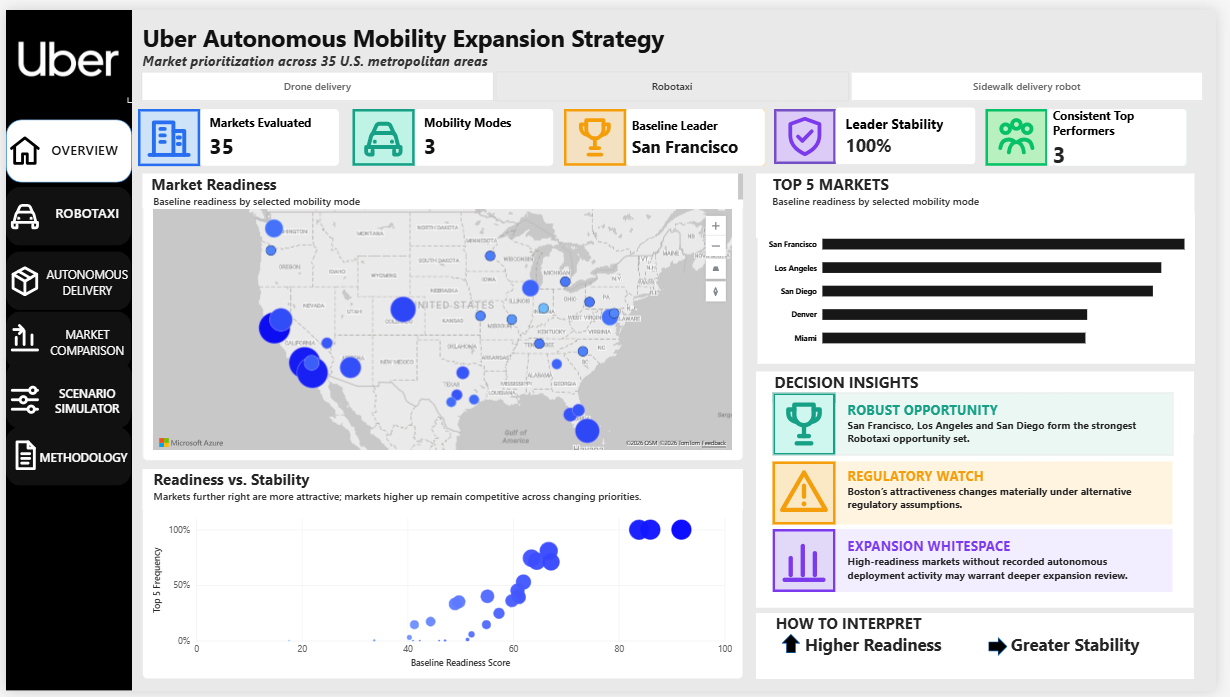

The page's visual inventory and layout, read from the dashboard file:
{"tool":"powerbi","page":{"name":"Overview","canvas":[1920,1080],"ordinal":0},"visuals":[{"type":"shape","box":[0,0,200,1080],"z":0},{"type":"image","box":[1218.7,156.1,98.2,87.3],"z":0,"group":"g18"},{"type":"image","box":[1554.6,156.6,98.4,90],"z":0,"group":"g19"},{"type":"shape","box":[0,172.9,200,100],"z":0,"group":"g2"},{"type":"group","id":"g1","title":"Group 8","box":[1189.4,258.5,698.9,281.6],"z":0,"group":"g22"},{"type":"textbox","box":[1189.4,258.5,697.5,95],"z":0,"group":"g1"},{"type":"shape","box":[0,280.6,198.7,92.8],"z":0,"group":"g5"},{"type":"shape","box":[0,382.5,198.7,92.8],"z":0,"group":"g4"},{"type":"shape","box":[0,477.5,198.7,92.8],"z":0,"group":"g6"},{"type":"shape","box":[0,572.5,198.7,92.8],"z":0,"group":"g7"},{"type":"shape","box":[0,662.5,198.7,92.8],"z":0,"group":"g8"},{"type":"scatterChart","fields":{"Category":["PBI_DIM_MARKET.MARKET_SHORT_NAME"],"Size":["_Measures.Top 10 Frequency"],"X":["_Measures.Selected Baseline Score"],"Y":["_Measures.Top 10 Frequency"]},"box":[215.6,783.3,953.2,278.8],"z":0,"group":"g13"},{"type":"textbox","box":[216,0,1704,96],"z":1000},{"type":"cardVisual","fields":{"Data":["_Measures.Robust Leader Top 5 Frequency"]},"box":[1316.9,154.3,222.4,90],"z":1000,"group":"g18"},{"type":"cardVisual","fields":{"Data":["_Measures.Consistent Top Performers"]},"box":[1653.3,156.6,221.3,90],"z":1000,"group":"g19"},{"type":"image","box":[0,187.3,60,70],"z":1000,"group":"g2"},{"type":"shape","box":[1194.7,316.8,693.5,223.4],"z":1000,"group":"g1"},{"type":"clusteredBarChart","fields":{"Category":["PBI_DIM_MARKET.MARKET_SHORT_NAME"],"Y":["_Measures.Selected Baseline Score"]},"box":[1190.8,321,695,220],"z":1000,"group":"g22"},{"type":"shape","box":[0,556,200,100],"z":1000,"group":"g3"},{"type":"textbox","box":[215.6,728.5,953.2,64.3],"z":1000,"group":"g13"},{"type":"textbox","box":[216,48,744,72],"z":2000},{"type":"image","box":[0,289.1,60,70],"z":3000,"group":"g5"},{"type":"actionButton","box":[528.9,447.9,200,100],"z":3000},{"type":"slicer","fields":{"Values":["PBI_DIM_MODE.MODE_NAME"]},"box":[192.9,95.3,1727.1,52.2],"z":4000},{"type":"image","box":[0,0,200,165.6],"z":5000},{"type":"cardVisual","fields":{"Data":["_Measures.Markets Evaluated"]},"box":[307.2,156.6,221.6,90.6],"z":5000,"group":"g20"},{"type":"cardVisual","fields":{"Data":["_Measures.Mobility Modes"]},"box":[647.6,156.6,221.6,90],"z":6000,"group":"g16"},{"type":"actionButton","box":[0,165.6,200,100],"z":6000},{"type":"cardVisual","fields":{"Data":["_Measures.Robust Leader"]},"box":[983.8,156.6,221.3,90],"z":7000,"group":"g21"},{"type":"group","id":"g2","title":"Group 1","box":[0,172.9,201.3,99.2],"z":7000},{"type":"group","id":"g3","title":"Group 2","box":[0,556,200,100],"z":8000},{"type":"azureMap","fields":{"Size":["_Measures.Top 5 Frequency"],"X":["PBI_DIM_MARKET.LONGITUDE"],"Y":["PBI_DIM_MARKET.LATITUDE"]},"box":[215.6,299.6,953.2,415.3],"z":9000,"group":"g14"},{"type":"group","id":"g4","title":"Group 3","box":[0,382.5,197.5,92.5],"z":9000},{"type":"textbox","box":[215.6,258.7,953.2,54.5],"z":10000,"group":"g14"},{"type":"group","id":"g5","title":"Group 4","box":[0,280.6,198.4,93.5],"z":10000},{"type":"group","id":"g6","title":"Group 5","box":[0,477.5,197.5,92.5],"z":11000},{"type":"group","id":"g7","title":"Group 6","box":[0,572.5,200,92.5],"z":12000},{"type":"group","id":"g8","title":"Group 7","box":[0,662.5,202.5,92.8],"z":13000},{"type":"actionButton","box":[0,270,198.4,93.5],"z":14000},{"type":"actionButton","box":[0,380,198.4,93.5],"z":15000},{"type":"actionButton","box":[0,475,198.4,102],"z":16000},{"type":"actionButton","box":[0,570,199.7,95.3],"z":17000},{"type":"textbox","box":[59.4,207.3,131.2,37.5],"z":18000,"group":"g2"},{"type":"actionButton","box":[0,667.5,197.4,90.8],"z":18000},{"type":"group","id":"g9","title":"Group 9","box":[1189.4,258.5,698.9,282.5],"z":19000},{"type":"textbox","box":[59.5,306.1,138.9,39.7],"z":20000,"group":"g5"},{"type":"textbox","box":[59.5,405.2,138.9,51],"z":20000,"group":"g4"},{"type":"textbox","box":[59.5,500.2,138.9,51],"z":20000,"group":"g6"},{"type":"textbox","box":[1191.5,549.2,695,100],"z":20000},{"type":"textbox","box":[59.5,595.2,138.9,51],"z":20000,"group":"g7"},{"type":"textbox","box":[42.5,698.7,160,27.5],"z":20000,"group":"g8"},{"type":"image","box":[0,393.8,60,70],"z":21000,"group":"g4"},{"type":"shape","box":[1191.5,581,694.5,325],"z":21000},{"type":"image","box":[0,486,60,70],"z":21005,"group":"g6"},{"type":"group","id":"g10","title":"Group 10","box":[1218.7,585.5,635.5,99.9],"z":22000},{"type":"group","id":"g11","title":"Group 11","box":[1218.7,689.9,635.5,102.1],"z":23000},{"type":"image","box":[1.2,584,60,70],"z":23001,"group":"g7"},{"type":"image","box":[0,671,60,70],"z":23001,"group":"g8"},{"type":"group","id":"g12","title":"Group 12","box":[1218.7,796.6,635.5,99.9],"z":24000},{"type":"group","id":"g13","title":"Group 13","box":[215.6,728.5,953.2,333.6],"z":25000},{"type":"group","id":"g14","title":"Group 14","box":[215.6,258.7,953.2,456.2],"z":26000},{"type":"group","id":"g15","title":"Group 15","box":[208.8,156.6,320,90.6],"z":27000},{"type":"group","id":"g16","title":"Group 16","box":[549.2,156.6,320,90.8],"z":28000},{"type":"group","id":"g17","title":"Group 17","box":[885.1,156.6,320,90.8],"z":29000},{"type":"group","id":"g18","title":"Group 18","box":[1218.7,154.3,320,90.8],"z":30000},{"type":"shape","box":[1218.7,585.5,635,100.1],"z":30000,"group":"g10"},{"type":"group","id":"g19","title":"Group 19","box":[1554.6,156.6,320,90.8],"z":31000},{"type":"shape","box":[1218.7,689.9,635,100.1],"z":31000,"group":"g11"},{"type":"image","box":[208.8,156.6,98.5,90.6],"z":31002,"group":"g20"},{"type":"image","box":[549.2,156.6,98.5,90],"z":31003,"group":"g16"},{"type":"image","box":[885.1,156.6,98.3,90],"z":31004,"group":"g21"},{"type":"group","id":"g20","title":"Group 21","box":[208.8,156.6,320,90.6],"z":31015,"group":"g15"},{"type":"group","id":"g21","title":"Group 20","box":[885.1,156.6,320,90],"z":31015,"group":"g17"},{"type":"shape","box":[1218.7,796.6,635,100.1],"z":32000,"group":"g12"},{"type":"shape","box":[1189.2,912.3,694.5,150],"z":32000},{"type":"image","box":[1218.7,585.5,100,100.1],"z":33000,"group":"g10"},{"type":"textbox","box":[1205,925,510,137.5],"z":33000},{"type":"image","box":[1218.7,689.9,100,100.1],"z":34000,"group":"g11"},{"type":"shape","box":[1207.5,957.5,45,35],"z":34000},{"type":"image","box":[1218.7,796.6,100,100.1],"z":35000,"group":"g12"},{"type":"shape","box":[1212.5,992.5,35,45],"z":35000},{"type":"group","id":"g22","title":"Group 22","box":[1189.4,258.5,698.9,282.5],"z":35001,"group":"g9"},{"type":"actionButton","box":[0,571.4,200,100],"z":35001},{"type":"textbox","box":[1336.7,596.9,481.1,88.6],"z":36000,"group":"g10"},{"type":"textbox","box":[1336.7,696.7,481.1,88.6],"z":37000,"group":"g11"},{"type":"textbox","box":[1336.7,808,481.1,88.6],"z":38000,"group":"g12"}]}

Visuals, with their boxes on the page's 1920x1080 design canvas (x1, y1, x2, y2). These are canvas units, not pixel positions in the 1230x697 screenshot, which may show the page scaled, cropped or inside an application window:
shape: [0,0,200,1080]
image: [1219,156,1317,243]
image: [1555,157,1653,247]
shape: [0,173,200,273]
"Group 8" group: [1189,258,1888,540]
textbox: [1189,258,1887,354]
shape: [0,281,199,373]
shape: [0,382,199,475]
shape: [0,478,199,570]
shape: [0,572,199,665]
shape: [0,662,199,755]
scatterChart - PBI_DIM_MARKET.MARKET_SHORT_NAME x _Measures.Top 10 Frequency: [216,783,1169,1062]
textbox: [216,0,1920,96]
cardVisual - _Measures.Robust Leader Top 5 Frequency: [1317,154,1539,244]
cardVisual - _Measures.Consistent Top Performers: [1653,157,1875,247]
image: [0,187,60,257]
shape: [1195,317,1888,540]
clusteredBarChart - PBI_DIM_MARKET.MARKET_SHORT_NAME x _Measures.Selected Baseline Score: [1191,321,1886,541]
shape: [0,556,200,656]
textbox: [216,728,1169,793]
textbox: [216,48,960,120]
image: [0,289,60,359]
actionButton: [529,448,729,548]
slicer - PBI_DIM_MODE.MODE_NAME: [193,95,1920,148]
image: [0,0,200,166]
cardVisual - _Measures.Markets Evaluated: [307,157,529,247]
cardVisual - _Measures.Mobility Modes: [648,157,869,247]
actionButton: [0,166,200,266]
cardVisual - _Measures.Robust Leader: [984,157,1205,247]
"Group 1" group: [0,173,201,272]
"Group 2" group: [0,556,200,656]
azureMap - _Measures.Top 5 Frequency x PBI_DIM_MARKET.LONGITUDE: [216,300,1169,715]
"Group 3" group: [0,382,198,475]
textbox: [216,259,1169,313]
"Group 4" group: [0,281,198,374]
"Group 5" group: [0,478,198,570]
"Group 6" group: [0,572,200,665]
"Group 7" group: [0,662,202,755]
actionButton: [0,270,198,364]
actionButton: [0,380,198,474]
actionButton: [0,475,198,577]
actionButton: [0,570,200,665]
textbox: [59,207,191,245]
actionButton: [0,668,197,758]
"Group 9" group: [1189,258,1888,541]
textbox: [60,306,198,346]
textbox: [60,405,198,456]
textbox: [60,500,198,551]
textbox: [1192,549,1886,649]
textbox: [60,595,198,646]
textbox: [42,699,202,726]
image: [0,394,60,464]
shape: [1192,581,1886,906]
image: [0,486,60,556]
"Group 10" group: [1219,586,1854,685]
"Group 11" group: [1219,690,1854,792]
image: [1,584,61,654]
image: [0,671,60,741]
"Group 12" group: [1219,797,1854,896]
"Group 13" group: [216,728,1169,1062]
"Group 14" group: [216,259,1169,715]
"Group 15" group: [209,157,529,247]
"Group 16" group: [549,157,869,247]
"Group 17" group: [885,157,1205,247]
"Group 18" group: [1219,154,1539,245]
shape: [1219,586,1854,686]
"Group 19" group: [1555,157,1875,247]
shape: [1219,690,1854,790]
image: [209,157,307,247]
image: [549,157,648,247]
image: [885,157,983,247]
"Group 21" group: [209,157,529,247]
"Group 20" group: [885,157,1205,247]
shape: [1219,797,1854,897]
shape: [1189,912,1884,1062]
image: [1219,586,1319,686]
textbox: [1205,925,1715,1062]
image: [1219,690,1319,790]
shape: [1208,958,1252,992]
image: [1219,797,1319,897]
shape: [1212,992,1248,1038]
"Group 22" group: [1189,258,1888,541]
actionButton: [0,571,200,671]
textbox: [1337,597,1818,686]
textbox: [1337,697,1818,785]
textbox: [1337,808,1818,897]
